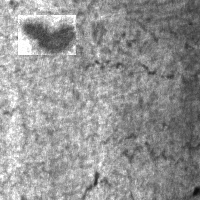crazing: (63, 1, 178, 81), (82, 121, 200, 164)
patches: (18, 15, 76, 55)
